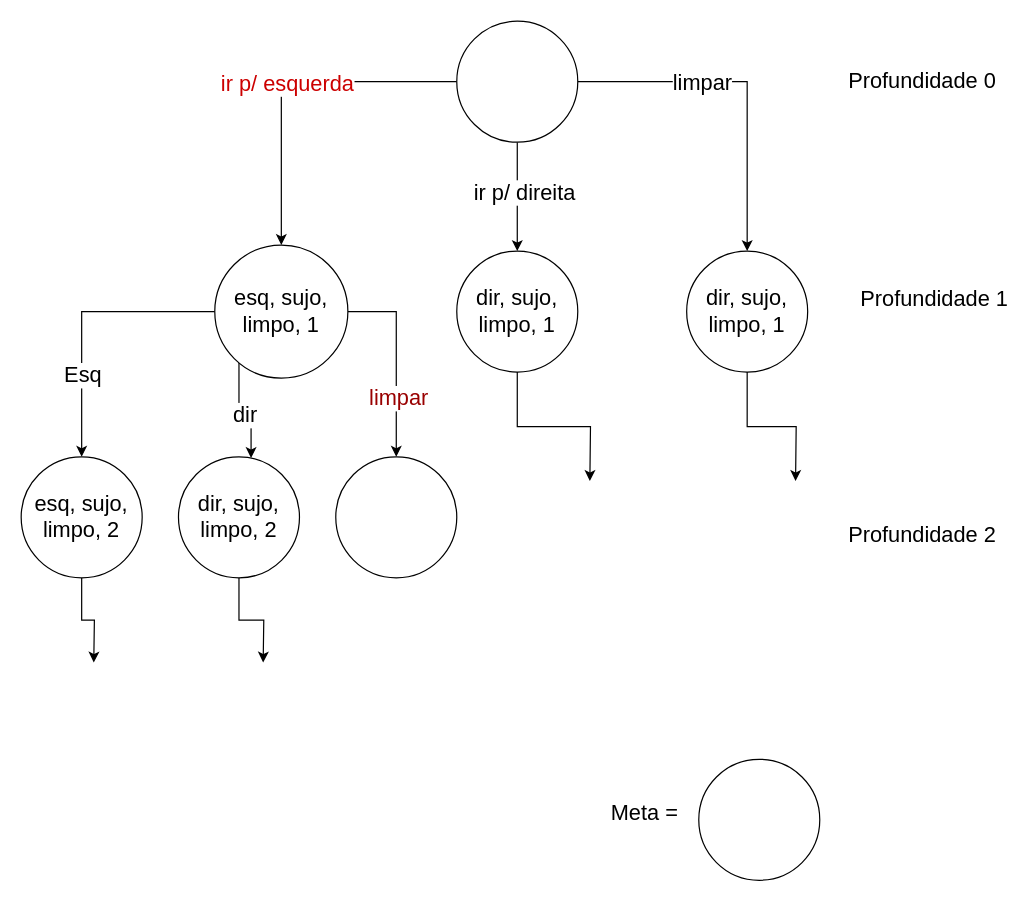
Image size: 1035x901. Some labels were removed from this diagram. Here are the shapes that lost their labels. From the top down, the centre of each, then its label:
At point 517,81: "dir, sujo, limpo, 0".
At point 396,517: "esq, limpo, limpo, 2".
At point 759,819: "esq, limpo, limpo".
